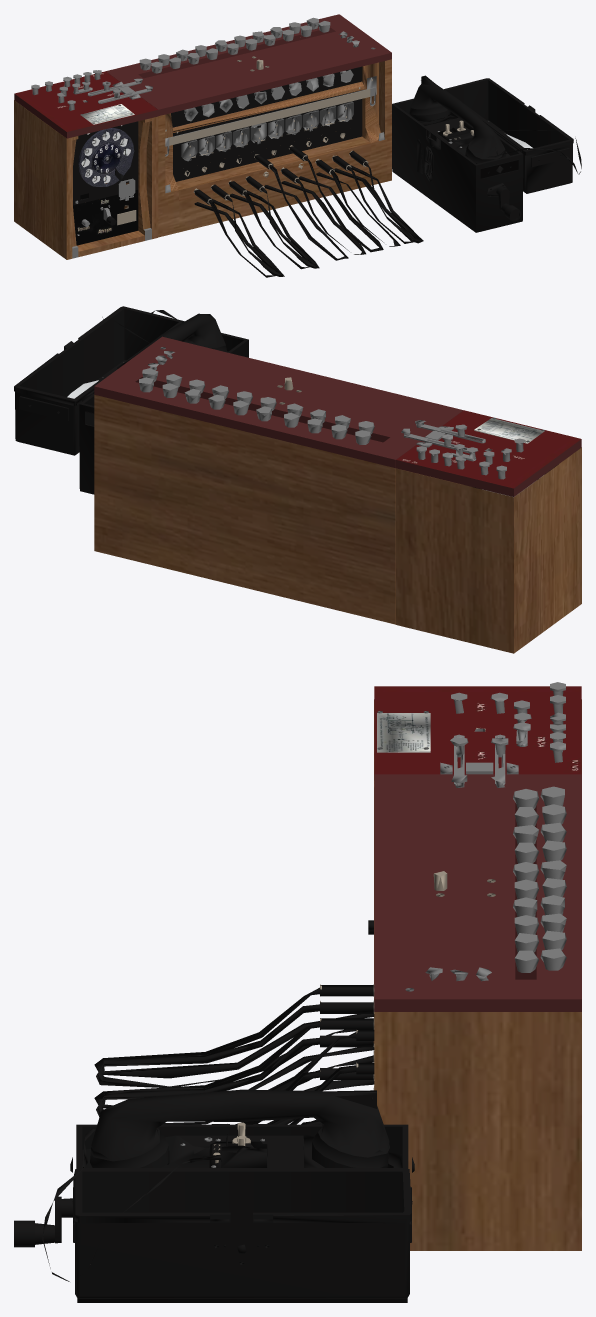
File: ww2_german_field_telephone_equipment.glb
The picture shows the model from 3 angles, top to bottom: view 1: azimuth 30°, elevation 25°; view 2: azimuth 150°, elevation 25°; view 3: azimuth 270°, elevation 25°; orthographic projection. The views are drawn at different scales.
Parts seen in each view (by area): view 1: polySurface90, pCube1, polySurface26, polySurface21, polySurface38, polySurface27, pCylinder38, polySurface40, polySurface7, polySurface39; view 2: polySurface90, pCube1, polySurface21, polySurface38, polySurface26, polySurface27, polySurface39; view 3: polySurface90, polySurface21, polySurface38, polySurface27, polySurface26, polySurface7.
Part boxes in pixels (x1=…): polySurface90: x1=106, y1=14, x2=423, y2=277; pCube1: x1=14, y1=100, x2=158, y2=259; polySurface26: x1=392, y1=98, x2=523, y2=232; polySurface21: x1=444, y1=78, x2=573, y2=193; polySurface38: x1=14, y1=70, x2=158, y2=138; polySurface27: x1=409, y1=75, x2=581, y2=174; pCylinder38: x1=78, y1=128, x2=134, y2=186; polySurface40: x1=75, y1=125, x2=136, y2=235; polySurface7: x1=496, y1=186, x2=521, y2=221; polySurface39: x1=87, y1=81, x2=150, y2=103; polySurface90: x1=94, y1=336, x2=463, y2=624; pCube1: x1=396, y1=447, x2=581, y2=653; polySurface21: x1=14, y1=306, x2=184, y2=455; polySurface38: x1=396, y1=410, x2=581, y2=496; polySurface26: x1=79, y1=333, x2=248, y2=494; polySurface27: x1=102, y1=310, x2=227, y2=369; polySurface39: x1=404, y1=424, x2=485, y2=453; polySurface90: x1=94, y1=774, x2=581, y2=1250; polySurface21: x1=72, y1=1168, x2=412, y2=1298; polySurface38: x1=374, y1=682, x2=581, y2=774; polySurface27: x1=42, y1=1089, x2=389, y2=1281; polySurface26: x1=70, y1=1122, x2=414, y2=1302; polySurface7: x1=14, y1=1196, x2=72, y2=1247.
Size of the model in its own units: 1.53 by 0.4598 by 0.8655.
Materials: 8 (3 with a texture image).
